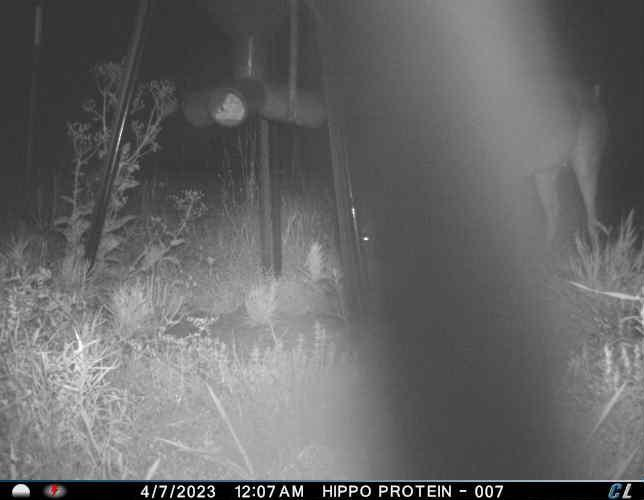Deer: (496, 70, 609, 253)
